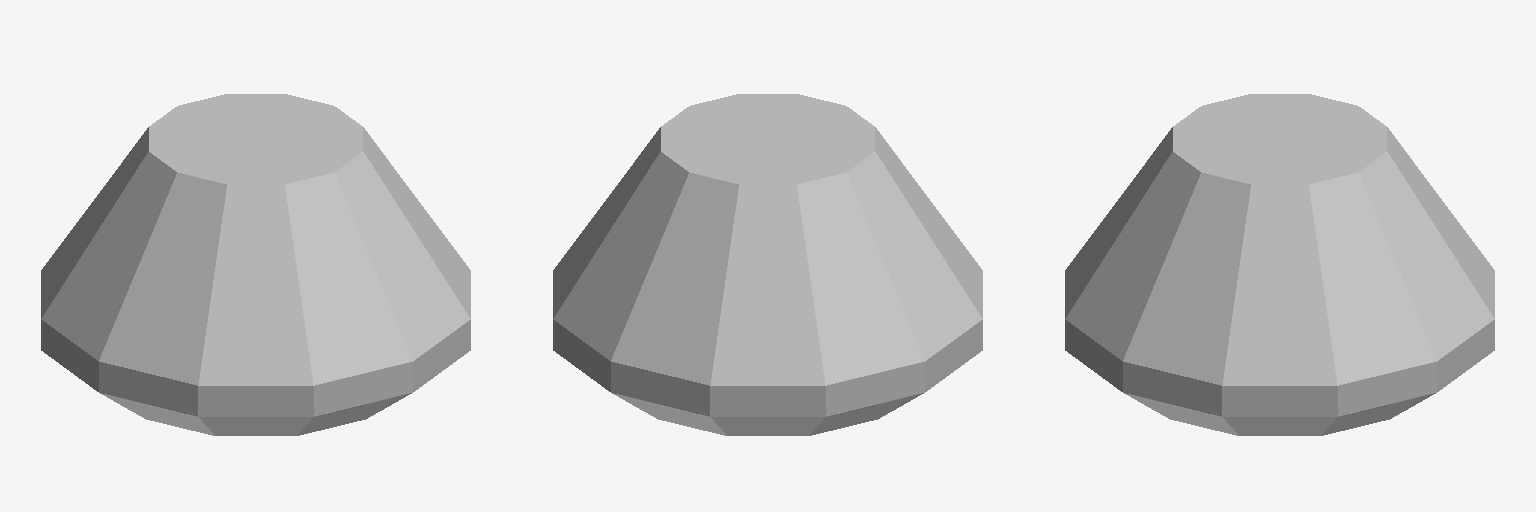
The model's file is 4mv_avionics_s0_1_collider.obj.
The picture shows the model from 3 angles: view 1: azimuth 30°, elevation 25°; view 2: azimuth 150°, elevation 25°; view 3: azimuth 270°, elevation 25°; orthographic projection.
Visible parts, largest first — view 1: collider; view 2: collider; view 3: collider.
Boxes of the visible parts, box(x1,y1,x2,y2) form: collider: box(41, 94, 470, 435); collider: box(553, 94, 982, 435); collider: box(1065, 94, 1494, 435).
Bounding box in the file's own units: 1.25 × 0.75 × 1.25.